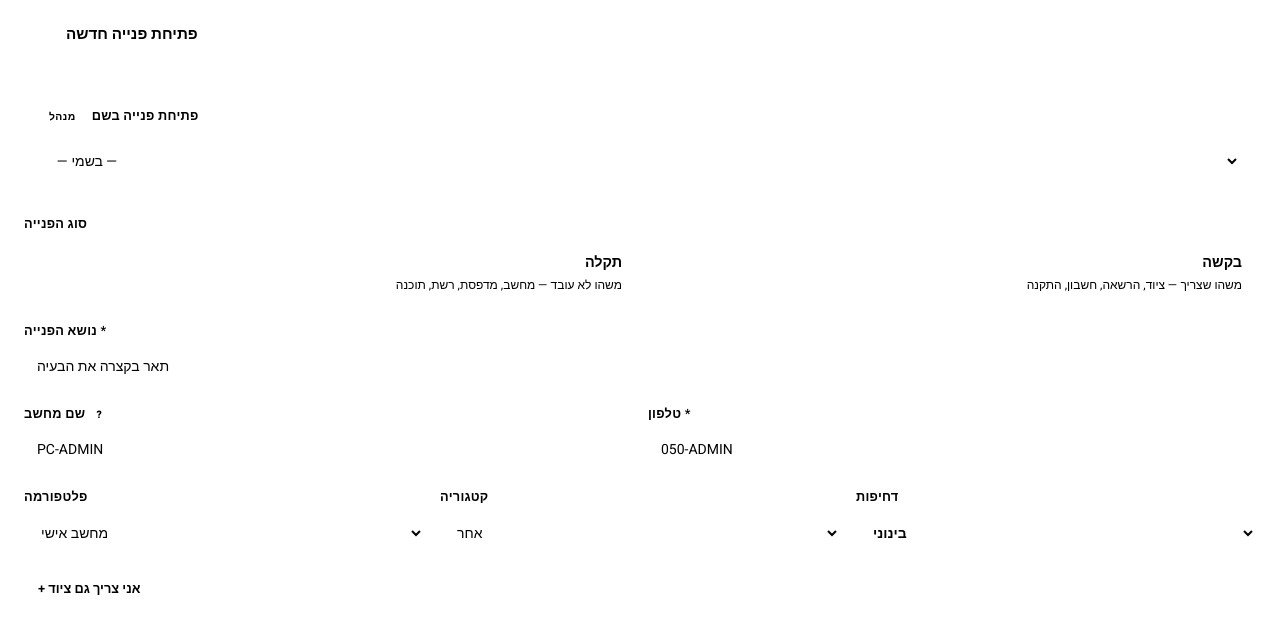
Scenario: TicketForm › open in someone else's name (admin) › fills phone and computer name from the PICKED user, not the admin
The image size is (1280, 625).
Select "דנה כהן — dana@cristalino.co.il" in the dropdown labelled "פתיחת פנייה בשם" at (640, 161), box [40,140,1240,183]
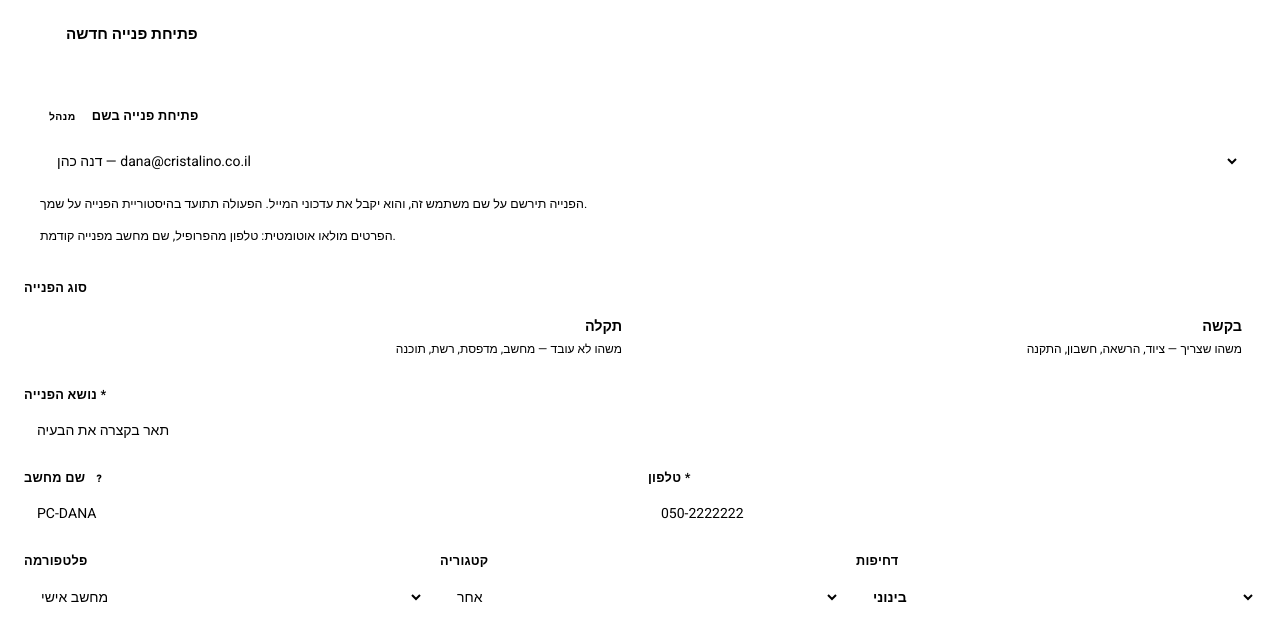
Check: the field with placeholder "050-0000000" holds "050-2222222", box [648,493,1256,534]
Check: the field with id "computer-input" holds "PC-DANA", box [24,493,632,534]
